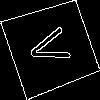V: (25, 23, 81, 70)
